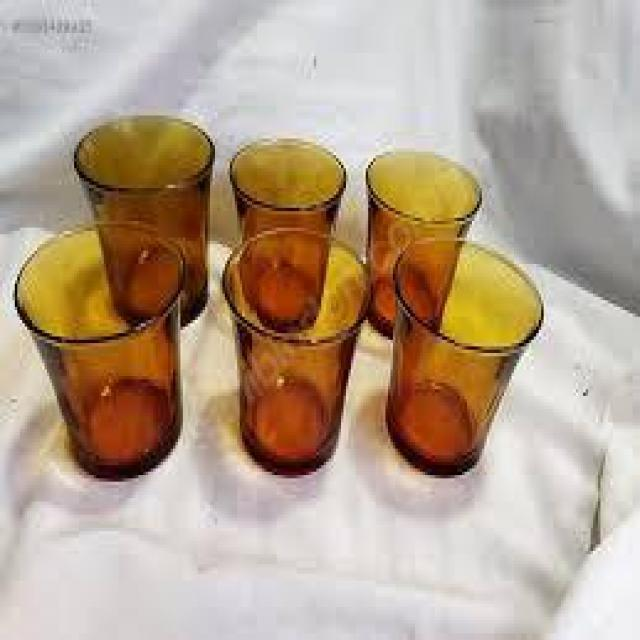glass: (216, 228, 377, 478)
